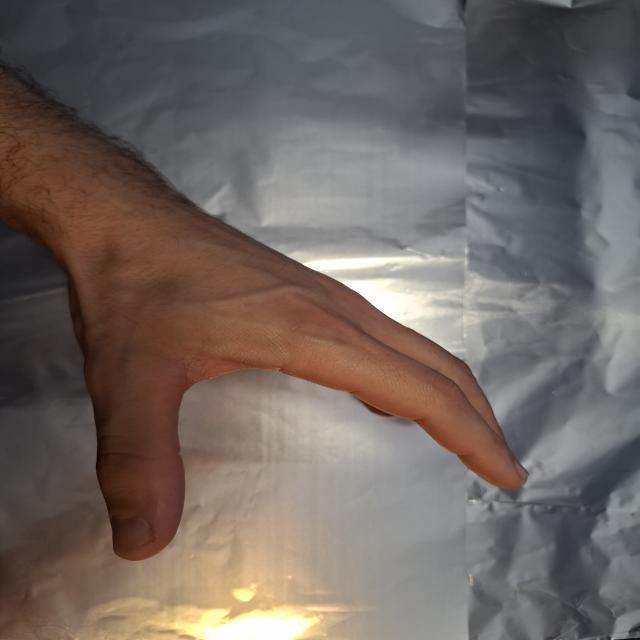glove_off: (31, 183, 535, 563)
